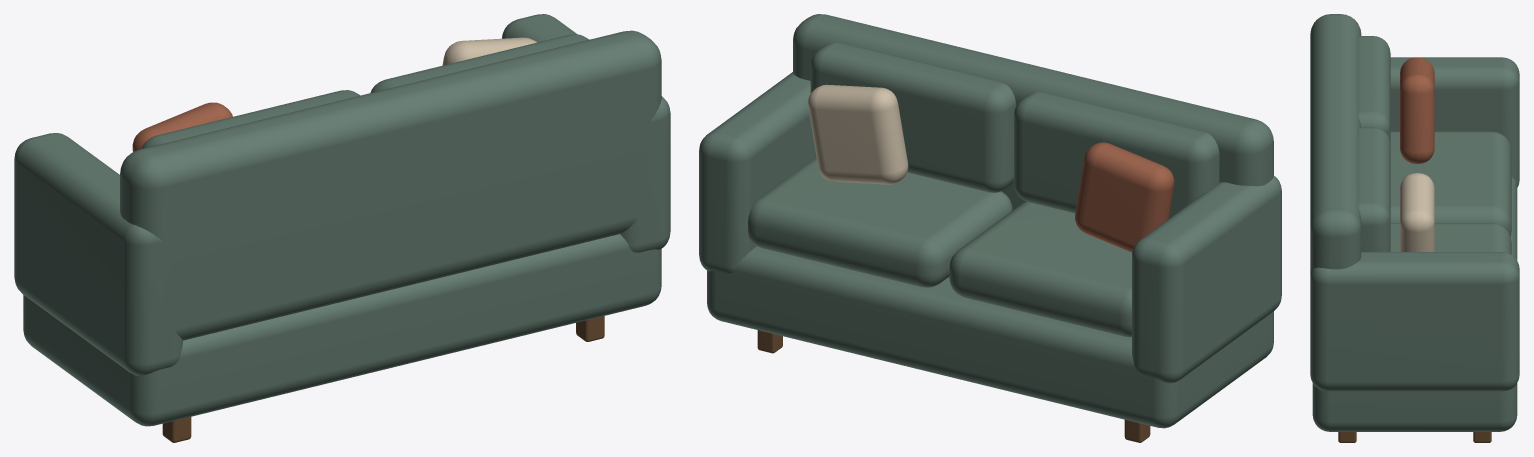
The model's file is sofa.glb.
3 renders of one model, left to right at view 1: azimuth 30°, elevation 25°; view 2: azimuth 150°, elevation 25°; view 3: azimuth 270°, elevation 25°, orthographic. The views are drawn at different scales.
Parts seen in each view (by area): view 1: Padded back, Upholstered frame, Rounded arm, Rounded arm.001, Back cushion, Back cushion.001, Soft scatter cushion, Soft scatter cushion.001; view 2: Upholstered frame, Rounded arm, Independent seat cushion.001, Independent seat cushion, Back cushion.001, Padded back, Back cushion, Rounded arm.001, Soft scatter cushion.001, Soft scatter cushion; view 3: Rounded arm.001, Padded back, Upholstered frame, Independent seat cushion, Rounded arm, Back cushion.001, Soft scatter cushion, Back cushion, Soft scatter cushion.001, Independent seat cushion.001.
Part boxes in pixels (box(x1,y1,x2,y2)): Padded back: box(120, 30, 661, 340); Upholstered frame: box(23, 234, 661, 426); Rounded arm: box(14, 133, 182, 375); Rounded arm.001: box(502, 14, 670, 252); Back cushion: box(141, 90, 360, 148); Back cushion.001: box(370, 34, 588, 92); Soft scatter cushion: box(132, 102, 232, 151); Soft scatter cushion.001: box(442, 37, 536, 65); Upholstered frame: box(707, 246, 1273, 428); Rounded arm: box(1132, 176, 1281, 383); Independent seat cushion.001: box(748, 156, 1012, 287); Independent seat cushion: box(949, 201, 1132, 337); Back cushion.001: box(810, 42, 1016, 192); Padded back: box(793, 14, 1273, 210); Back cushion: box(1014, 92, 1219, 218); Rounded arm.001: box(699, 72, 816, 273); Soft scatter cushion.001: box(808, 84, 908, 184); Soft scatter cushion: box(1075, 142, 1174, 252); Rounded arm.001: box(1310, 252, 1519, 391); Padded back: box(1310, 14, 1361, 271); Upholstered frame: box(1312, 177, 1517, 431); Independent seat cushion: box(1390, 131, 1511, 236); Rounded arm: box(1390, 57, 1519, 187); Back cushion.001: box(1357, 127, 1390, 251); Soft scatter cushion: box(1400, 57, 1434, 163); Back cushion: box(1357, 36, 1390, 143); Soft scatter cushion.001: box(1400, 173, 1434, 251); Independent seat cushion.001: box(1390, 223, 1511, 254).
Size of the model in its own units: 2.21 by 1.16 by 0.9.
